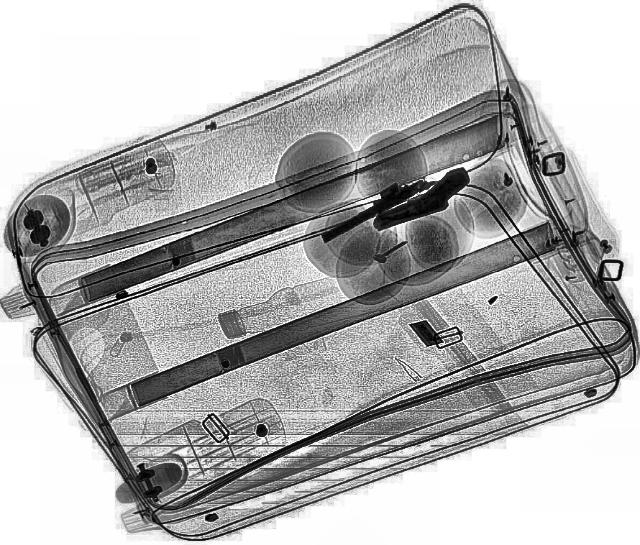Gun: (311, 166, 439, 246), (358, 164, 482, 232)
